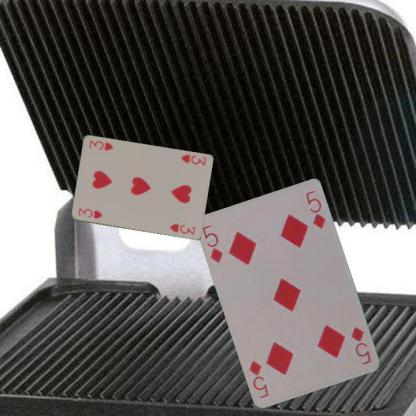3h: (75, 205, 104, 220), (178, 152, 207, 167)
5d: (348, 324, 373, 366), (200, 222, 225, 264)
